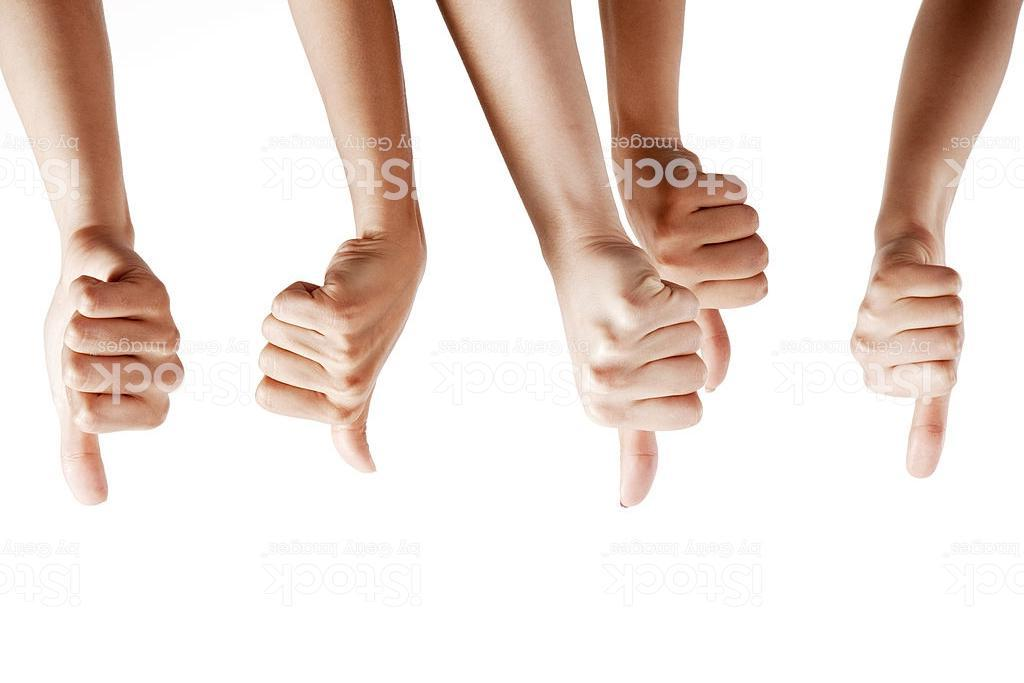thumbsdown: (40, 233, 189, 507), (564, 245, 711, 511), (251, 256, 399, 477), (847, 243, 966, 480), (683, 160, 773, 395)
